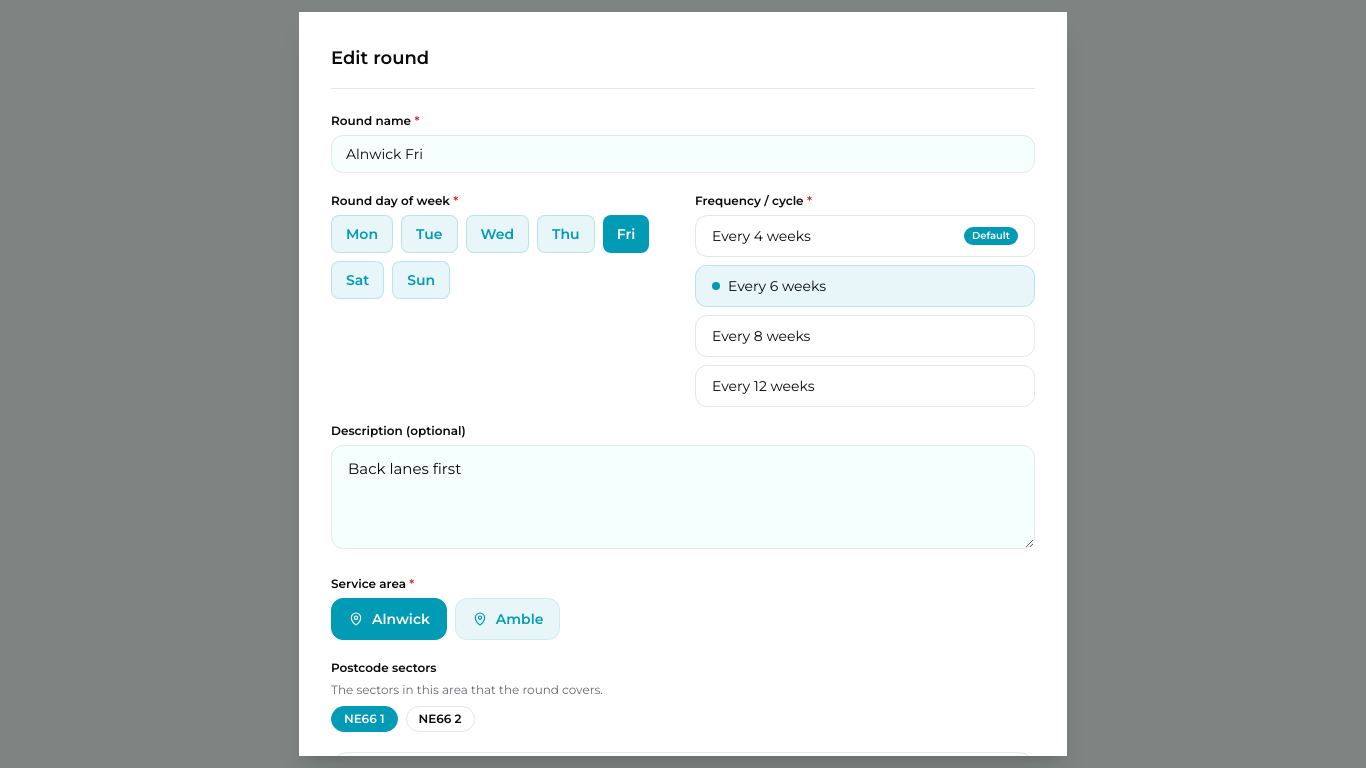
Edit round › saves only the changed fields with PATCH and closes
Replace the text in the field showing "Alnwick Fri" with "  Alnwick Thu " at (683, 154), box left=331, top=135, right=1035, bottom=173
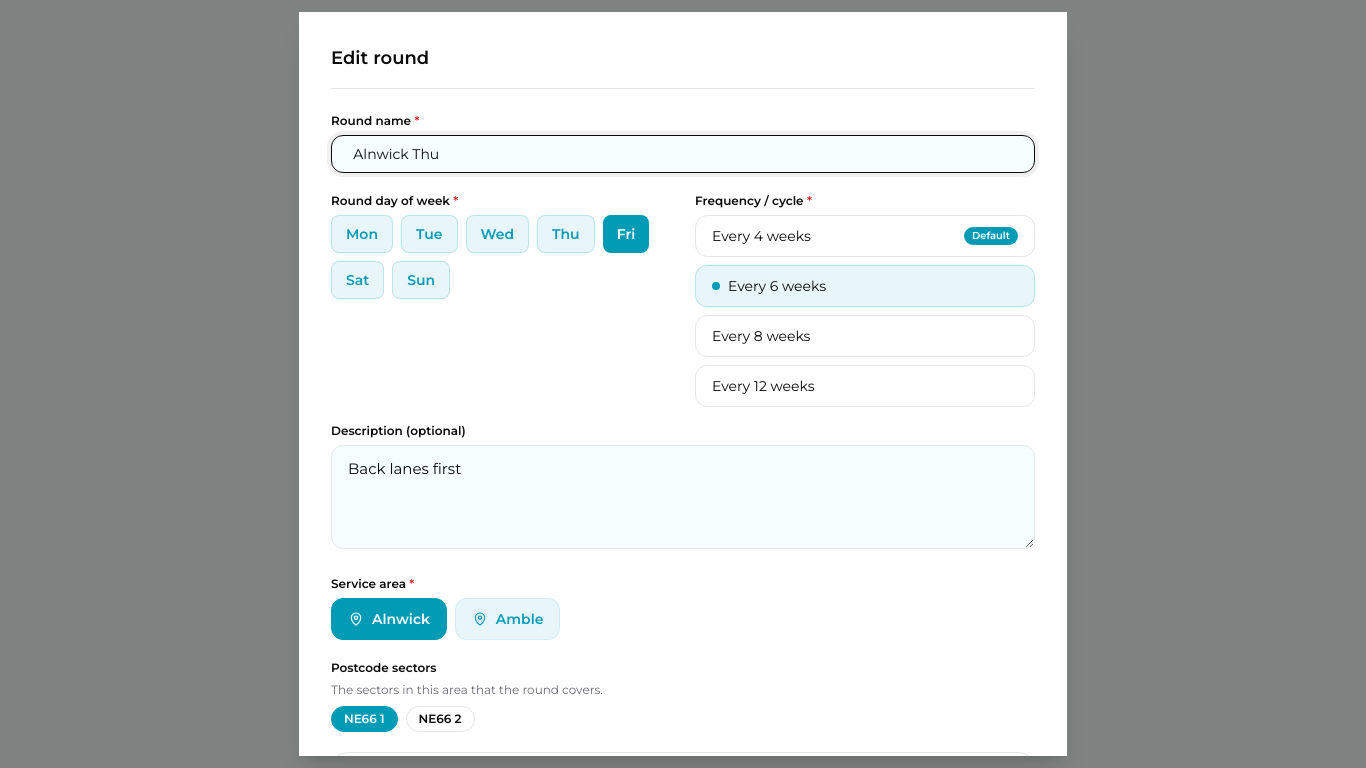
Click the button "Thu".
click(566, 234)  # box left=537, top=215, right=595, bottom=253
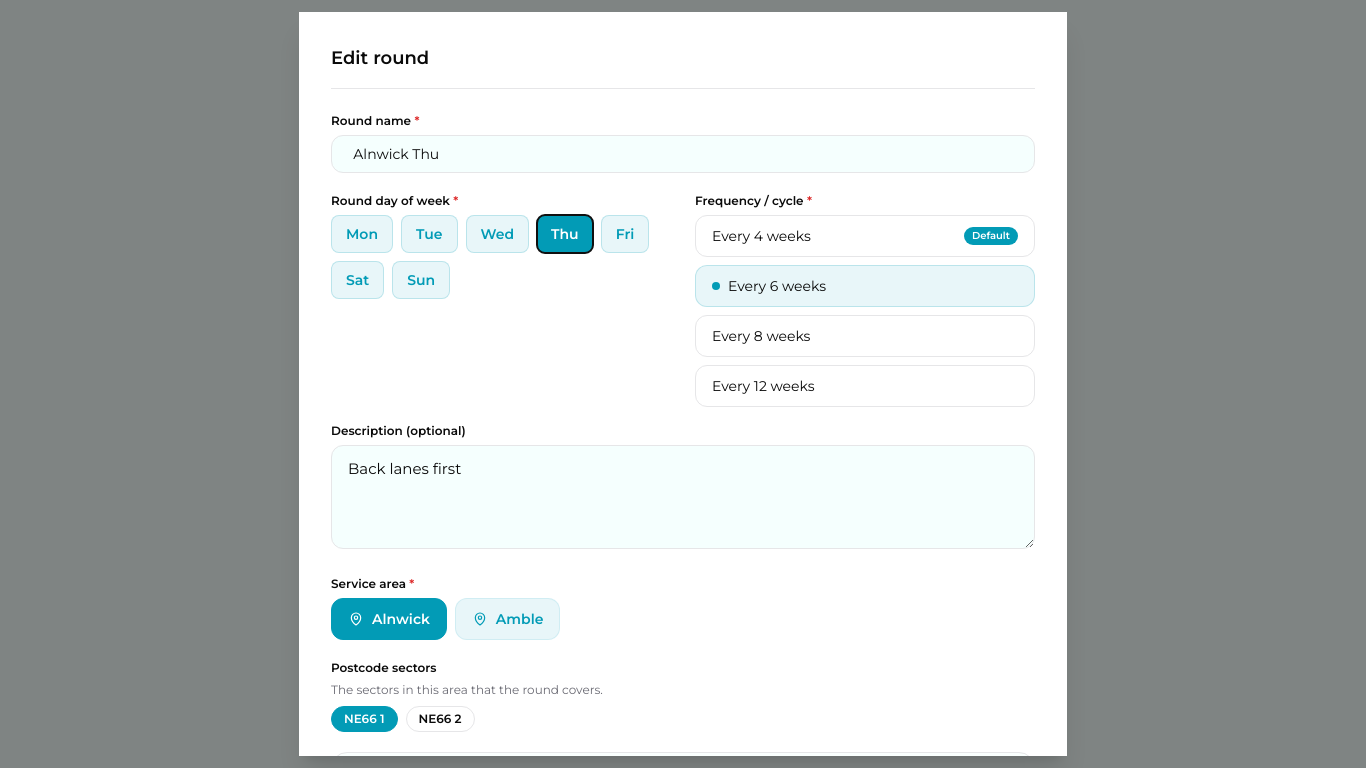
Click the button "Every 8 weeks".
click(761, 336)  # box left=695, top=315, right=1035, bottom=357
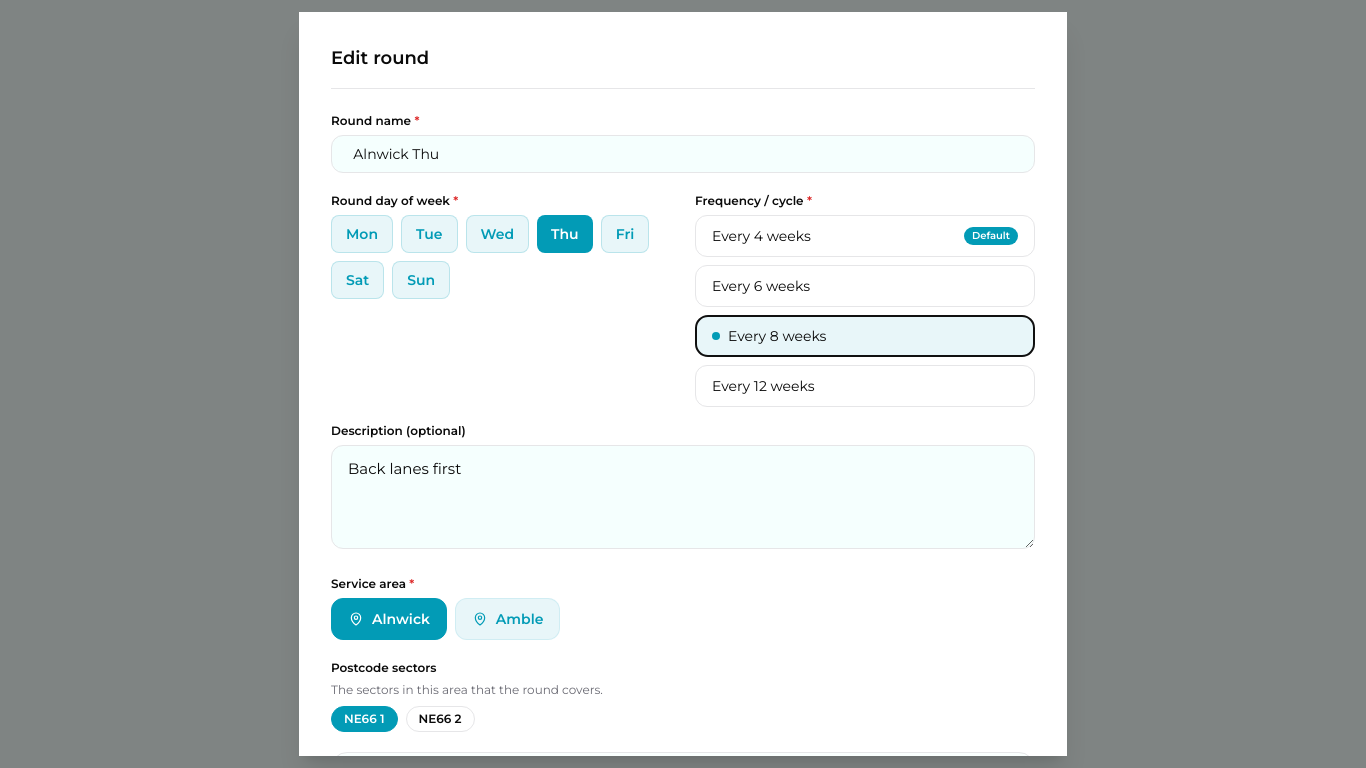
Clear the text box showing "Back lanes first" at (683, 497), box left=331, top=445, right=1035, bottom=549
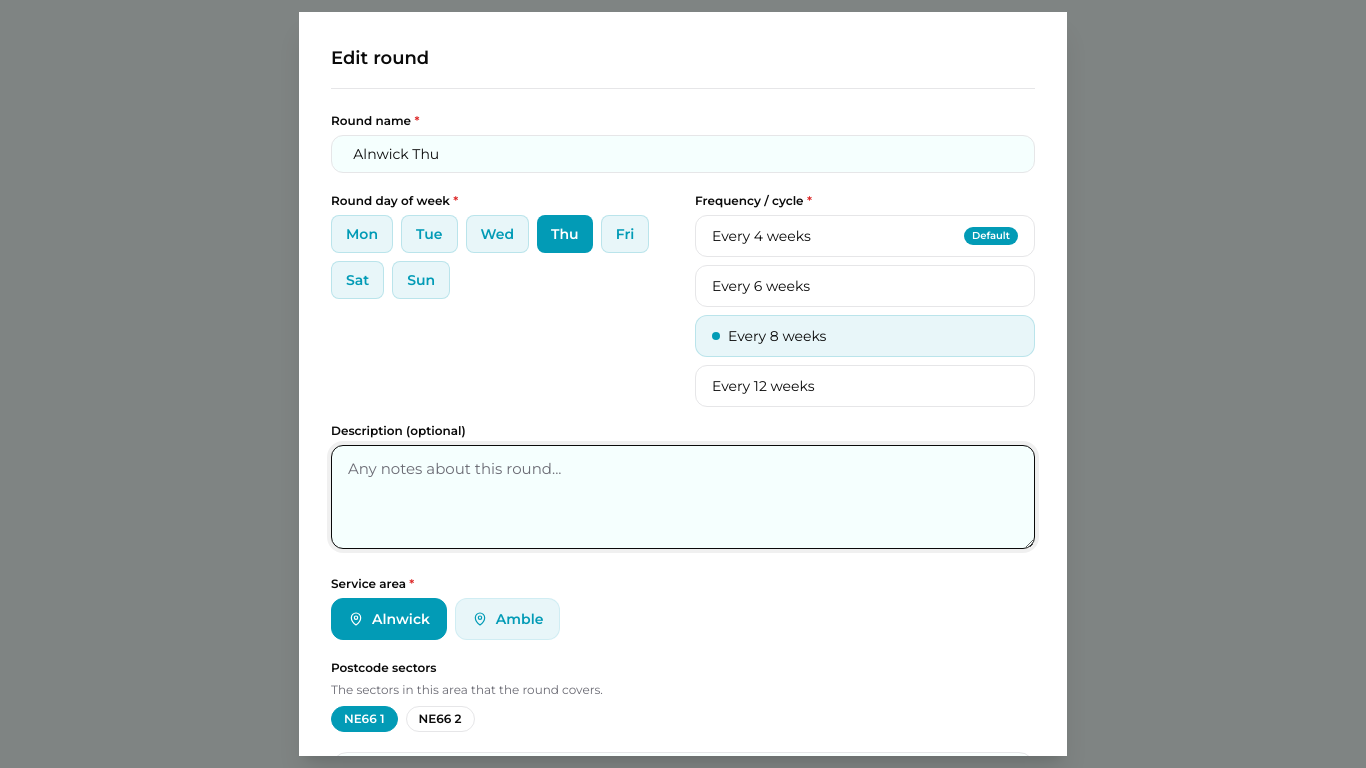
Click the button "NE66 2".
click(440, 719)  # box left=406, top=706, right=475, bottom=732
(page scrolled)
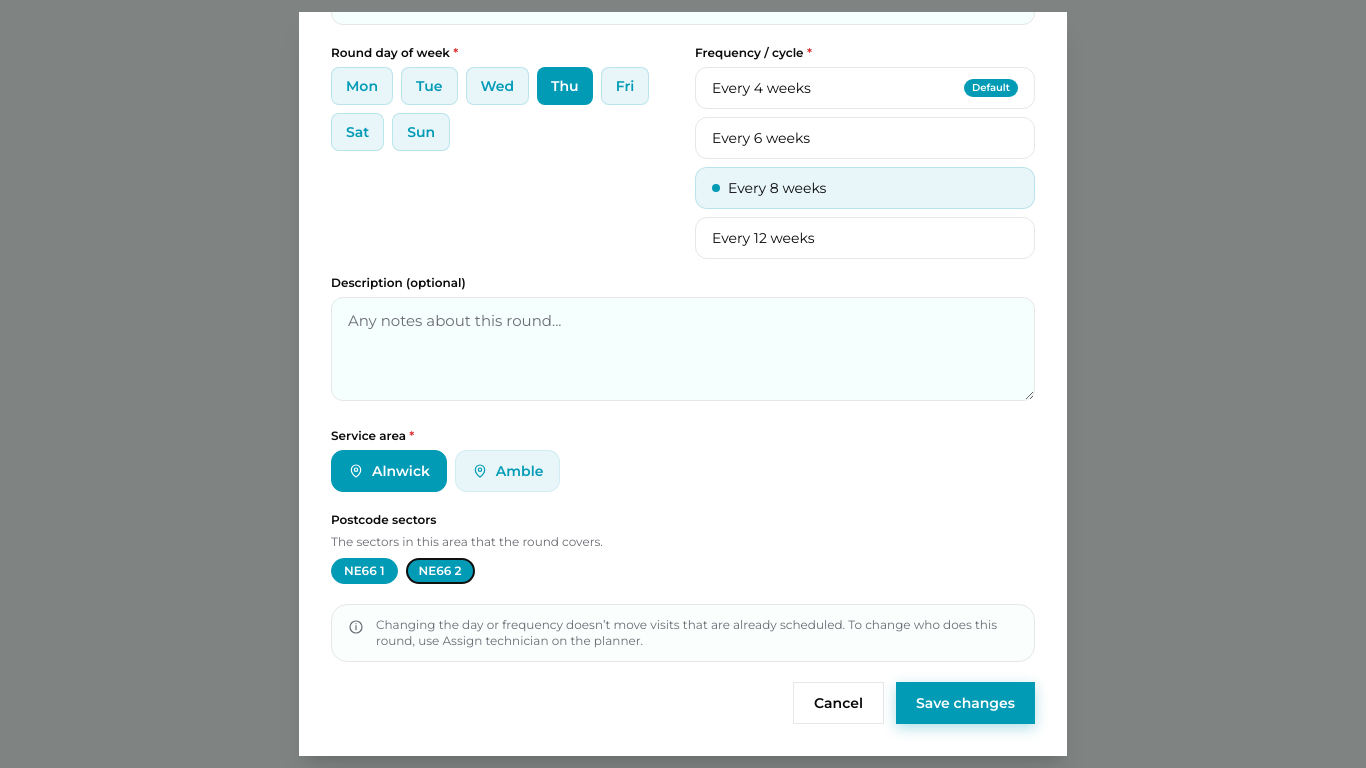
Click the button "Save changes".
click(966, 703)  # box left=896, top=682, right=1035, bottom=724
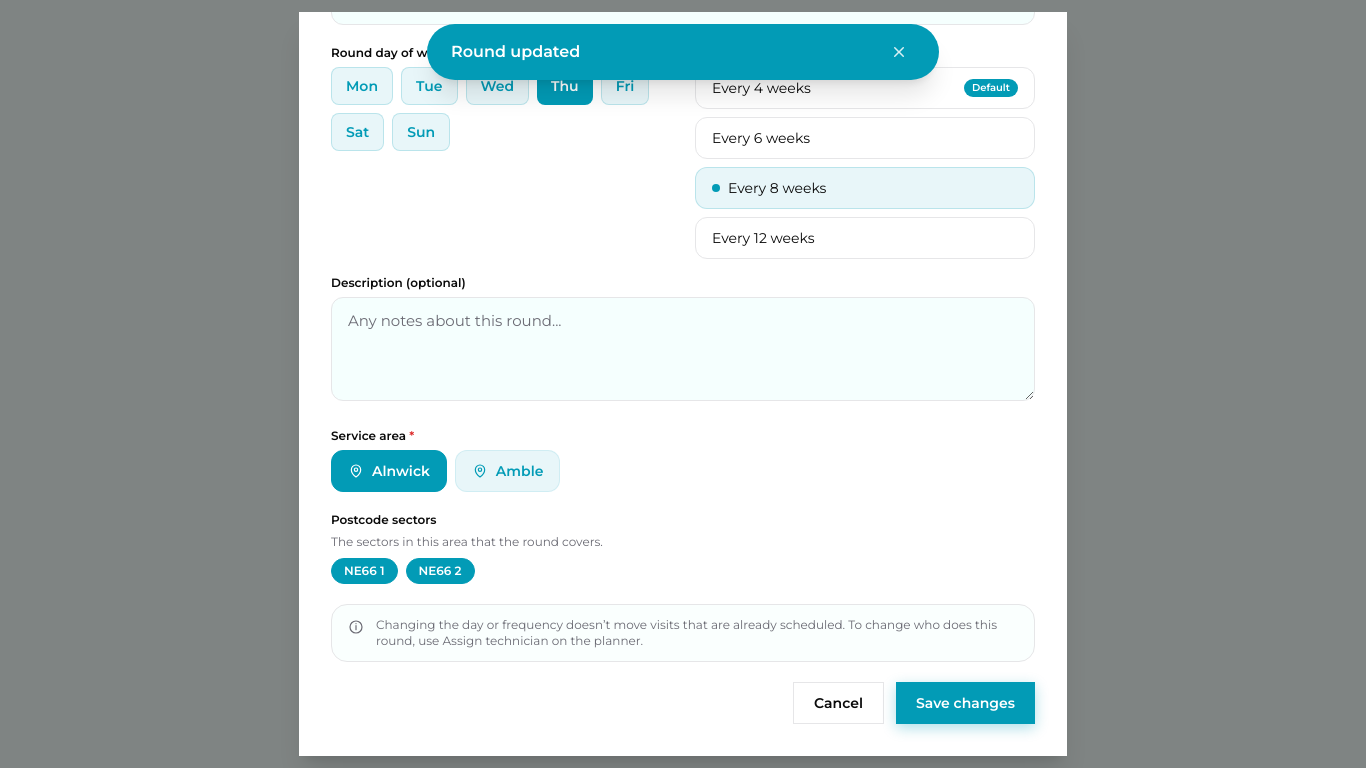
Expected: the text "Round updated" is shown, left=451, top=40, right=580, bottom=64
